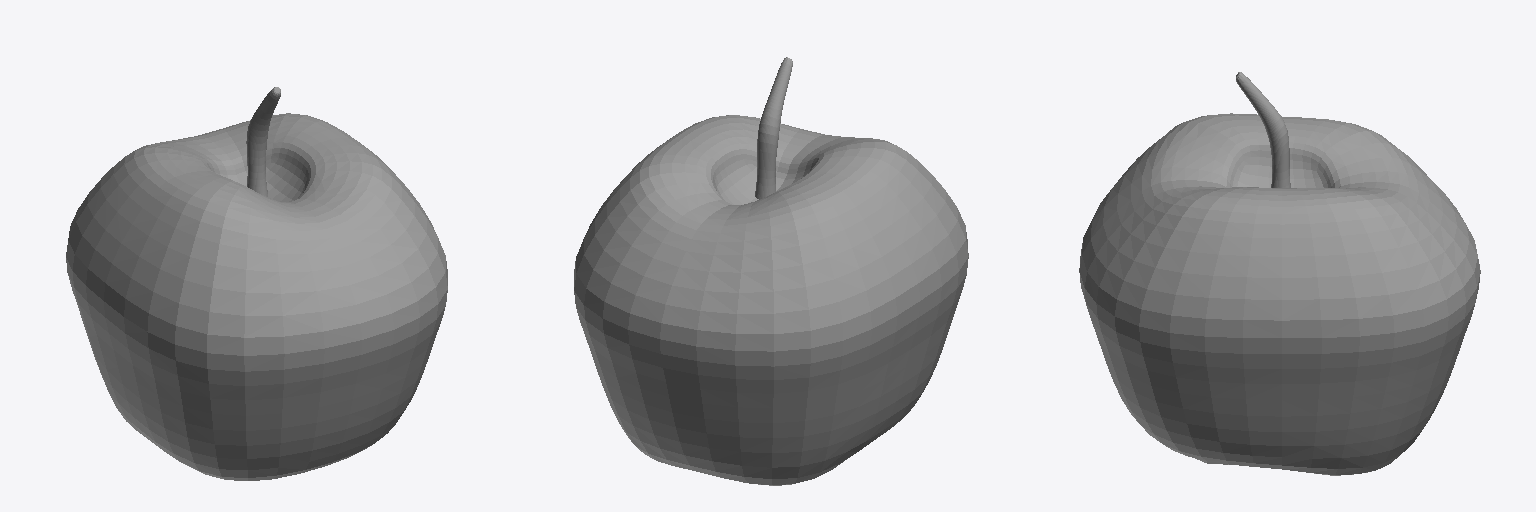
Rendered from apple.obj.
3 renders of one model, left to right at view 1: azimuth 30°, elevation 25°; view 2: azimuth 150°, elevation 25°; view 3: azimuth 270°, elevation 25°, orthographic.
Parts seen in each view (by area): view 1: Apple_Cube; view 2: Apple_Cube; view 3: Apple_Cube.
Part boxes in pixels (x1,y1,x2,y2): Apple_Cube: (66, 87, 447, 480); Apple_Cube: (574, 57, 968, 485); Apple_Cube: (1079, 72, 1480, 475).
Size of the model in its own units: 2.22 by 2.55 by 2.53.